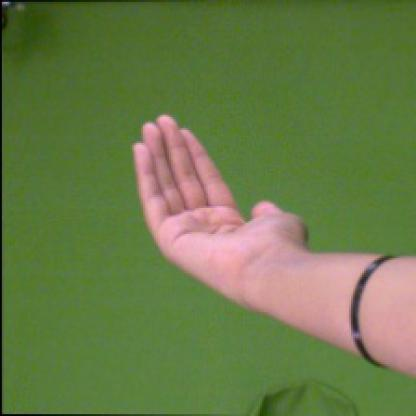Hand: (133, 114, 311, 285)
